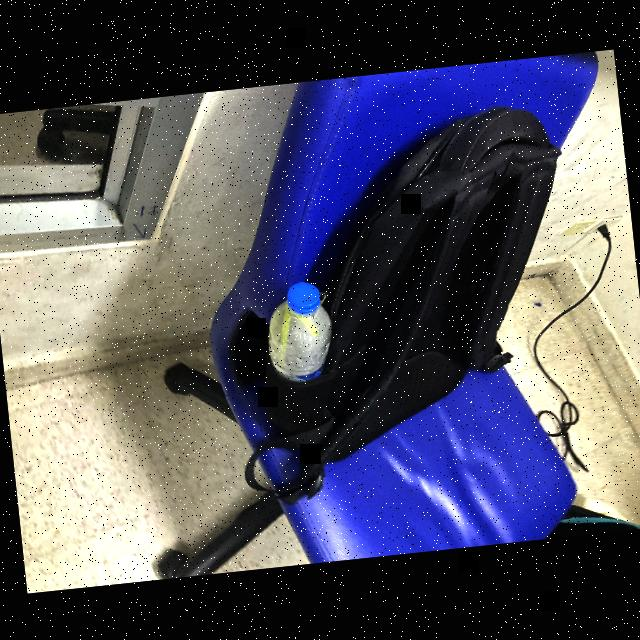plastic_bottle: (261, 277, 341, 387)
plastic_bottle_cap: (268, 298, 322, 368), (282, 278, 324, 316)
